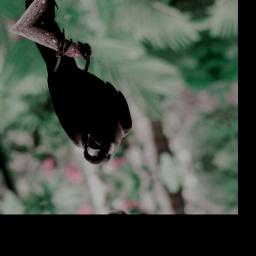Crow: (29, 9, 142, 174)
